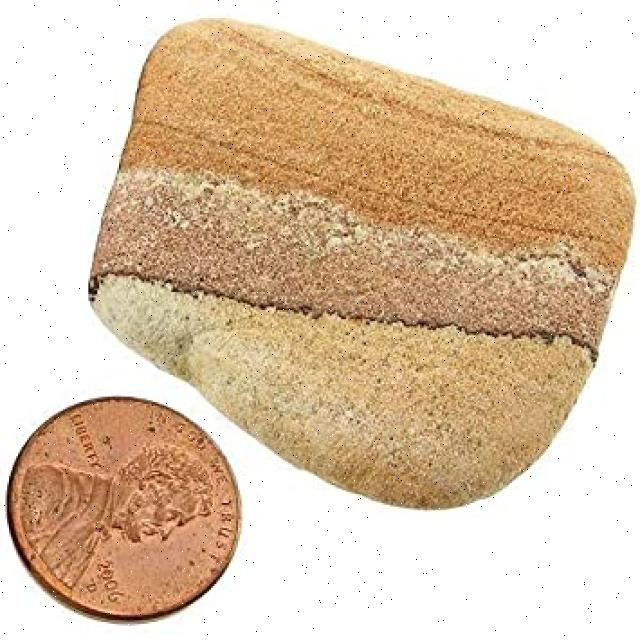Sedimentary: (72, 7, 635, 368)
